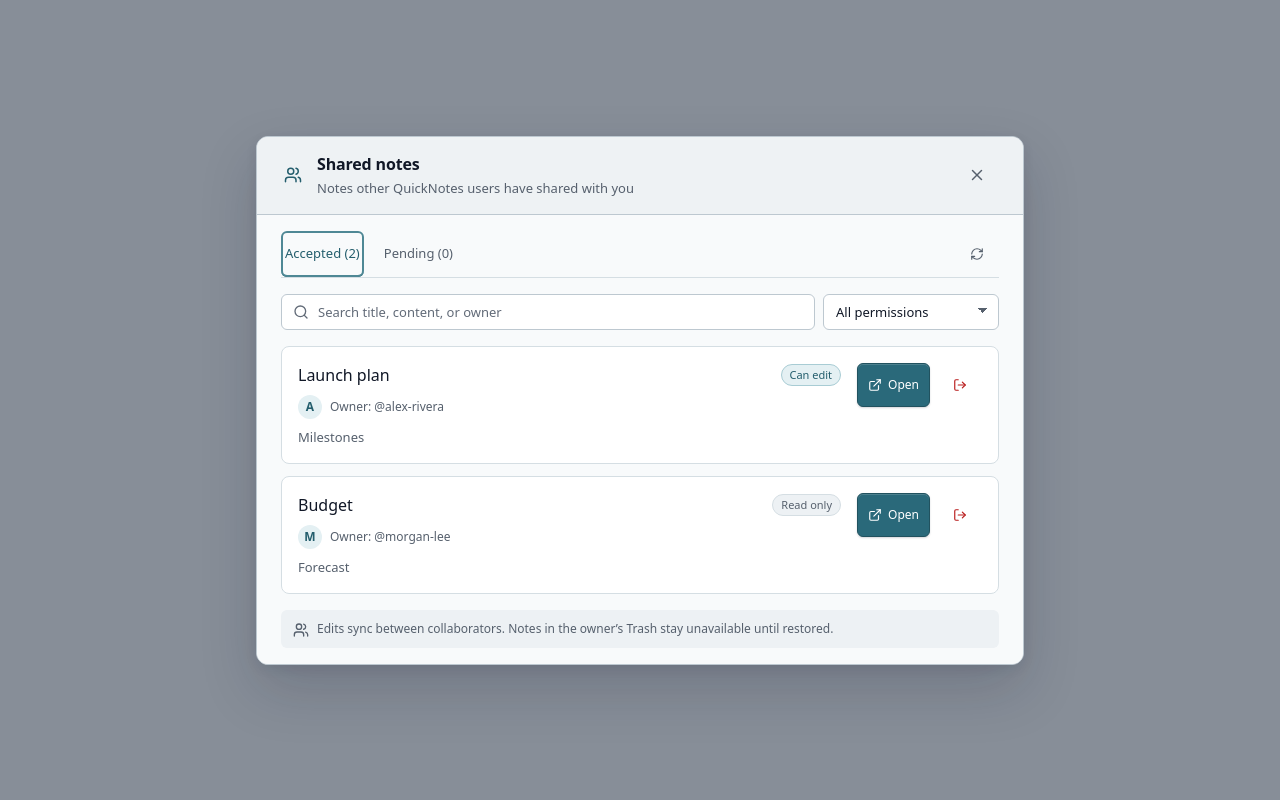
Test: shared notes › shows owner provenance and filters accepted shares by owner and permission
Expected: the text "Owner: @alex-rivera" is shown, [330,398,444,416]
Expected: the text "Owner: @morgan-lee" is shown, [330,528,450,546]
Type "morgan" into the search field named "Search shared notes" at (548, 312), box [281,294,815,330]
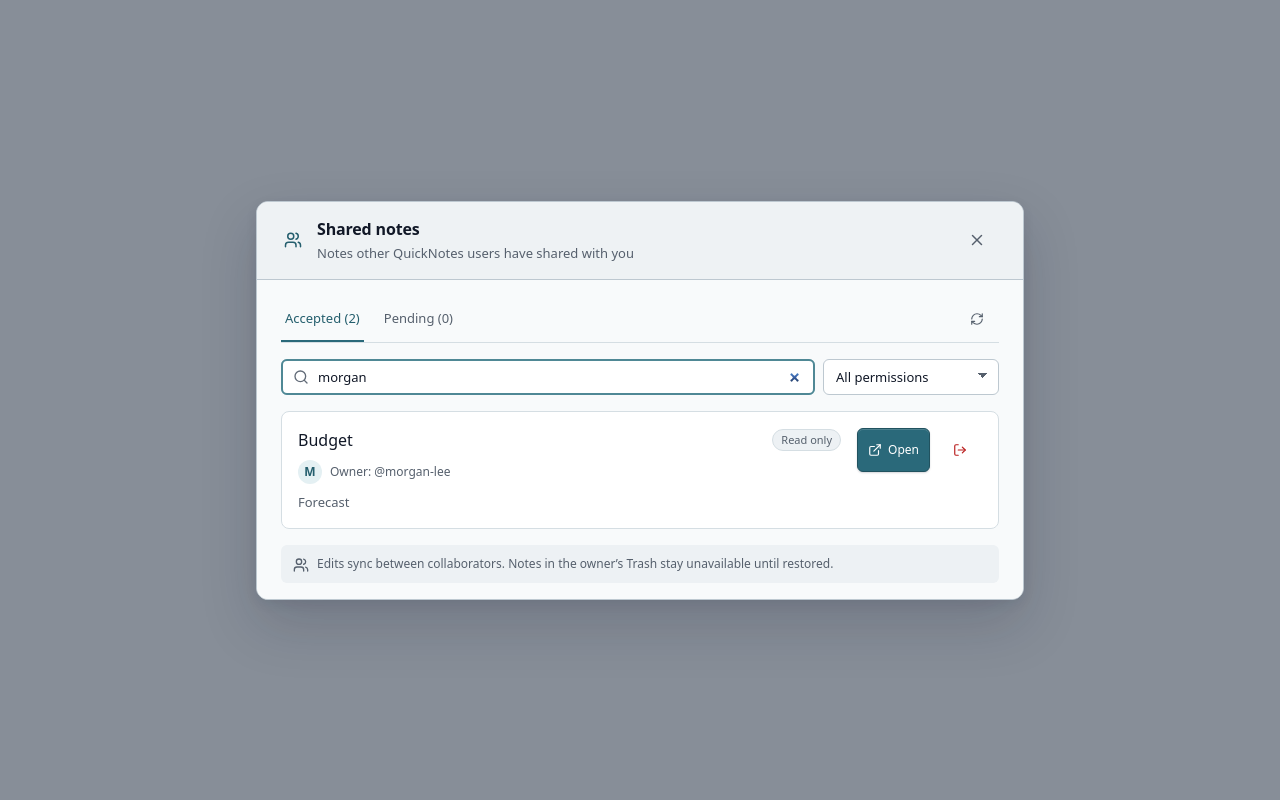
Expected: the heading "Budget" is shown, [298,428,353,450]
Now the heading "Launch plan" is gone
Clear the search field named "Search shared notes" at (548, 376), box [281,358,815,394]
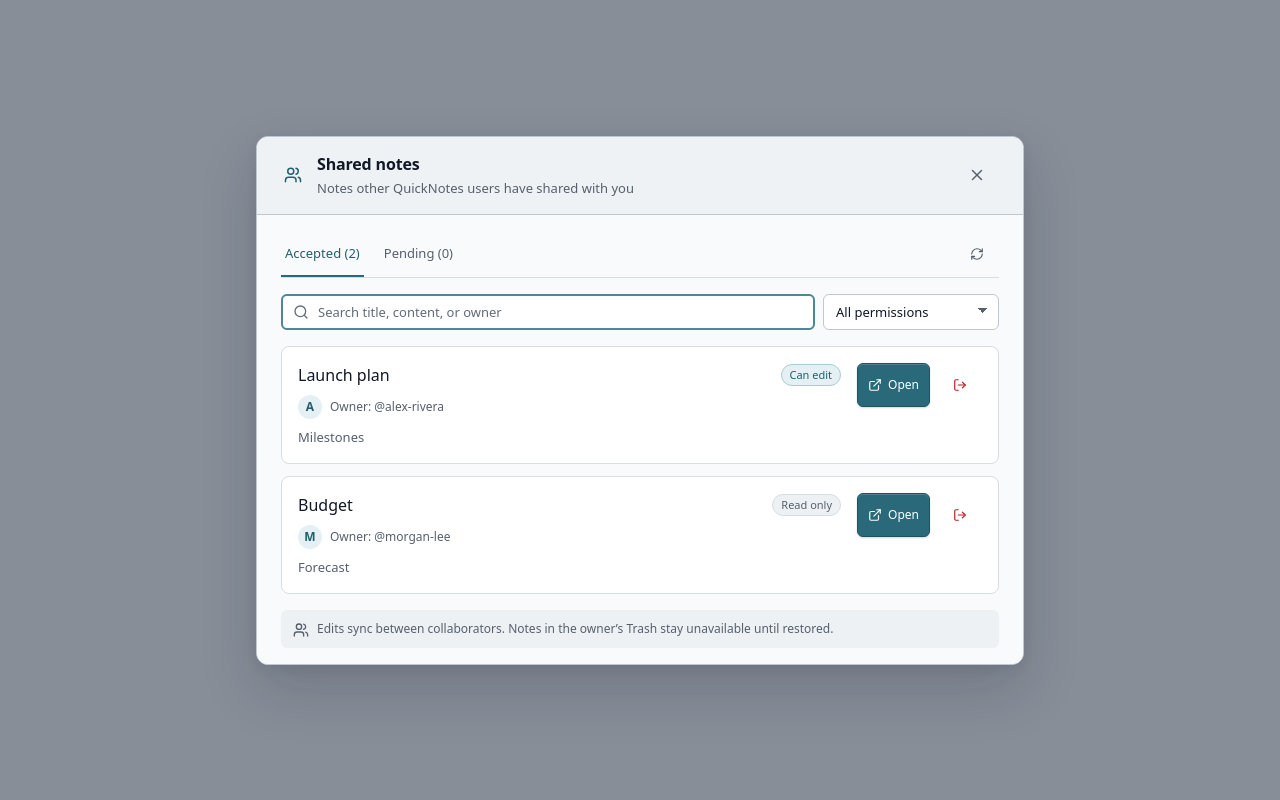
Select "Can edit" in the dropdown named "Filter shared notes by permission" at (911, 312), box [823,294,999,330]
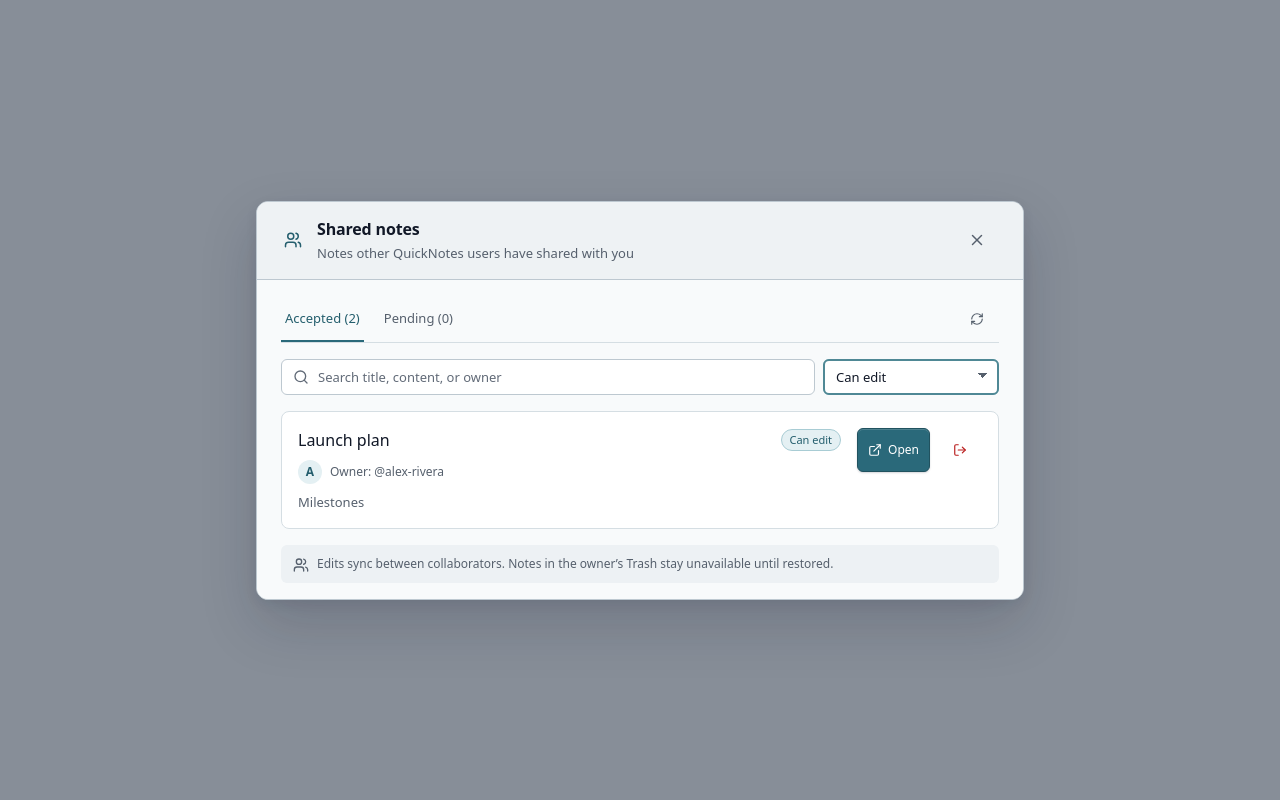
Now the heading "Launch plan" is shown, box [298,428,390,450]
Now the heading "Budget" is gone
